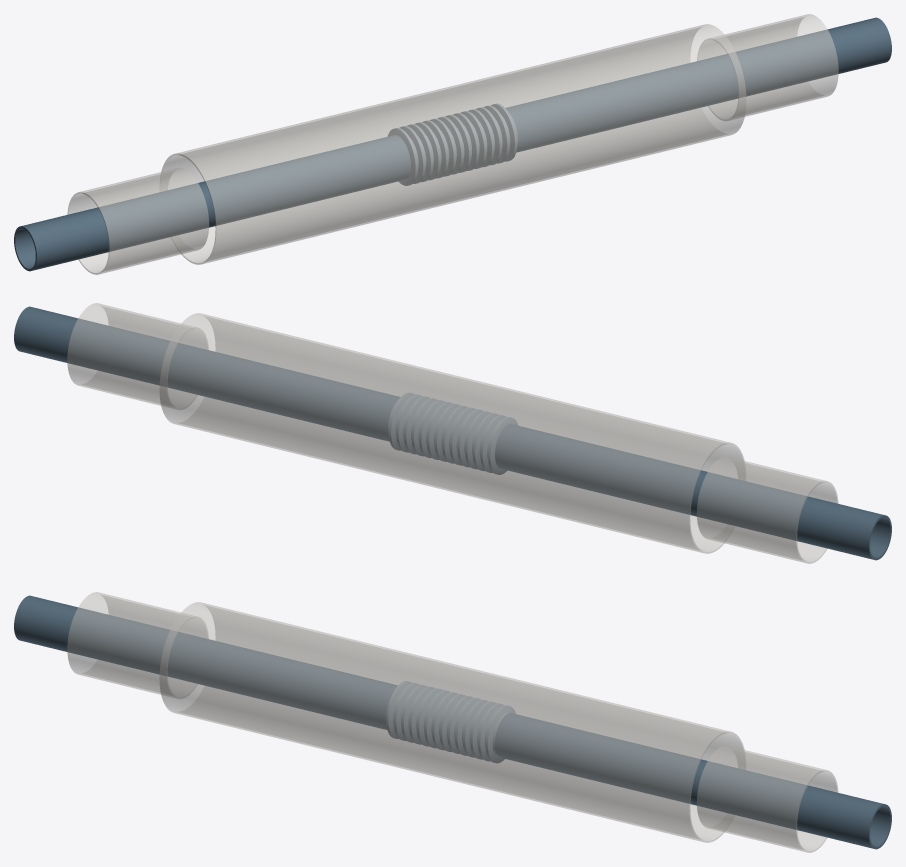
Rendered from ppu-dn65-L1628-D76-k-o188.glb.
3 renders of one model, top to bottom at view 1: azimuth 30°, elevation 25°; view 2: azimuth 150°, elevation 25°; view 3: azimuth 330°, elevation 25°, orthographic.
Parts seen in each view (by area): view 1: uslovno_kozhuh_ppu, patrubok_1, patrubok_2, uslovno_obolochka_l, uslovno_obolochka_r, prokladka_silfon_1; view 2: uslovno_kozhuh_ppu, patrubok_1, patrubok_2, uslovno_obolochka_l, uslovno_obolochka_r, prokladka_silfon_1; view 3: uslovno_kozhuh_ppu, patrubok_2, patrubok_1, uslovno_obolochka_r, uslovno_obolochka_l, prokladka_silfon_1.
Boxes of the visible parts, left/top/right/bottom form: uslovno_kozhuh_ppu: left=161, top=24, right=746, bottom=264; patrubok_1: left=14, top=135, right=410, bottom=271; patrubok_2: left=505, top=17, right=891, bottom=152; uslovno_obolochka_l: left=67, top=167, right=209, bottom=274; uslovno_obolochka_r: left=697, top=14, right=838, bottom=120; prokladka_silfon_1: left=387, top=103, right=517, bottom=185; uslovno_kozhuh_ppu: left=159, top=313, right=744, bottom=553; patrubok_1: left=495, top=424, right=891, bottom=560; patrubok_2: left=14, top=306, right=400, bottom=441; uslovno_obolochka_l: left=696, top=456, right=838, bottom=563; uslovno_obolochka_r: left=67, top=303, right=208, bottom=409; prokladka_silfon_1: left=388, top=392, right=518, bottom=474; uslovno_kozhuh_ppu: left=159, top=602, right=744, bottom=842; patrubok_2: left=495, top=713, right=891, bottom=849; patrubok_1: left=14, top=595, right=397, bottom=729; uslovno_obolochka_r: left=696, top=745, right=838, bottom=852; uslovno_obolochka_l: left=67, top=592, right=208, bottom=698; prokladka_silfon_1: left=386, top=681, right=515, bottom=763.
Size of the model in its own units: 1628 by 188 by 188.
